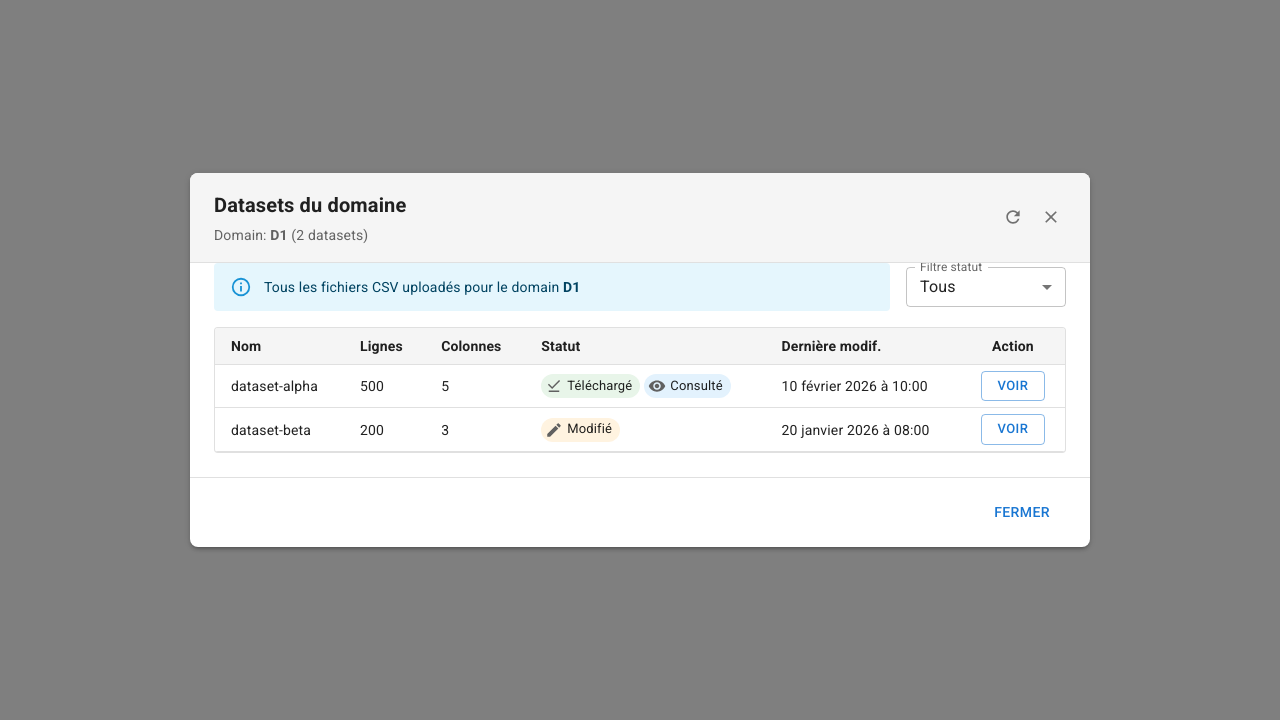
Test: DomainDatasetsModal › filtre par "Modifiés" ne montre que dataset-beta
This screenshot has width=1280, height=720.
Check: the text "dataset-alpha" is shown, box left=215, top=364, right=344, bottom=408
Press the mouse on the dropdown at (938,286), box left=920, top=277, right=956, bottom=296
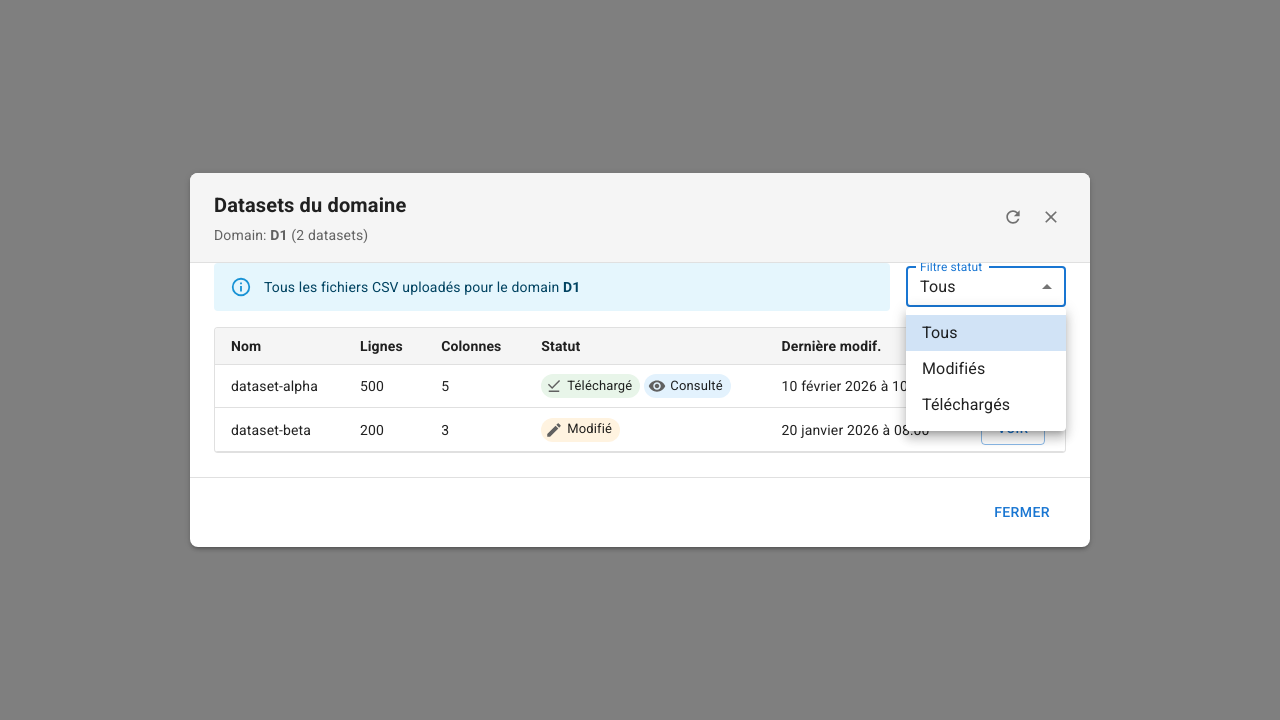
Click the option "Modifiés" at (954,368), box left=922, top=359, right=985, bottom=378
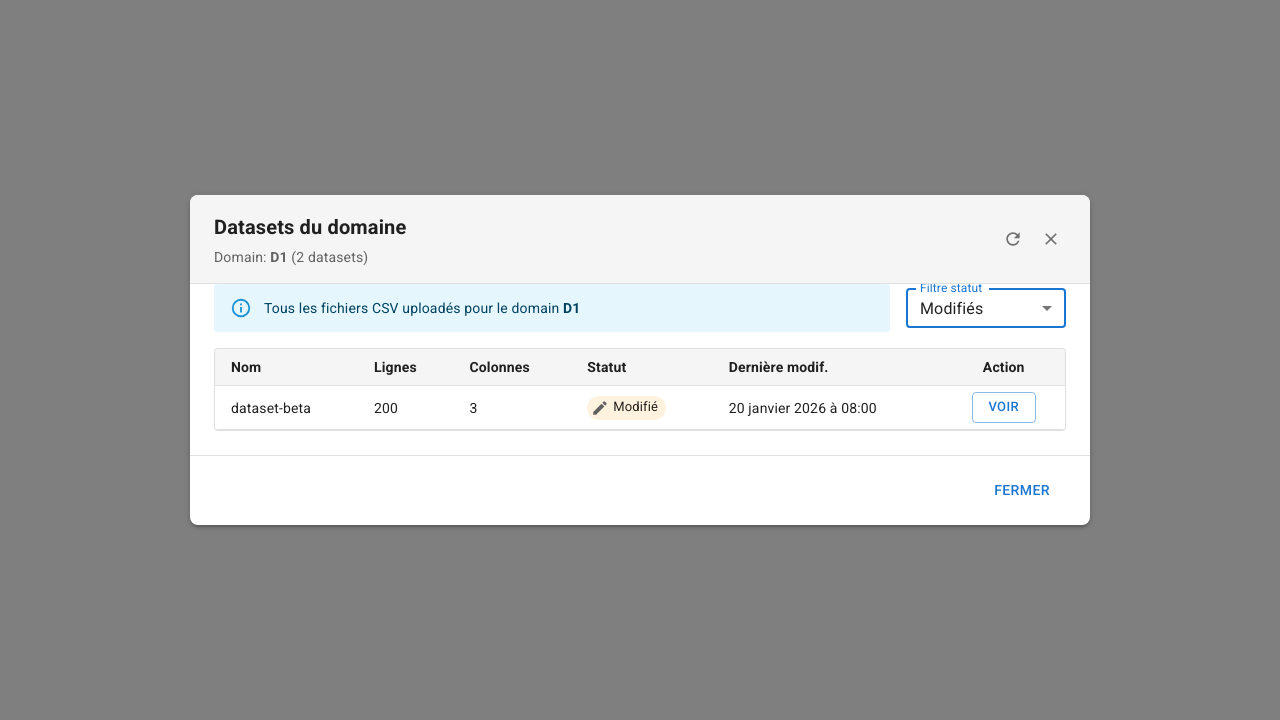
Check: the text "dataset-beta" is shown, box left=215, top=386, right=358, bottom=430
Check: the text "dataset-alpha" is gone
